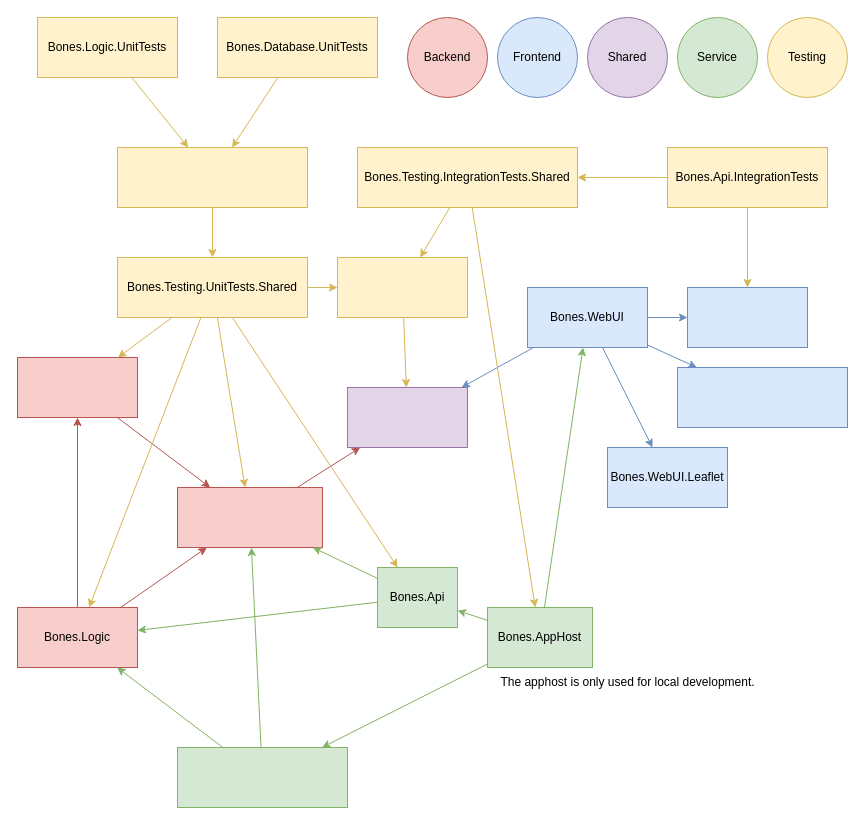
The diagram is 865 pixels wide and 825 high, and some of its shapes have lost their labels. The box of each missing label's shape, as (x1, y1, x2, y2) in pixels:
Bones.Api.Client: (686, 286, 808, 348)
Bones.BackgroundService: (176, 746, 348, 808)
Bones.Database: (16, 356, 138, 418)
Bones.Shared: (346, 386, 468, 448)
Bones.Shared.Backend: (176, 486, 322, 548)
Bones.Shared.Backend.UnitTests: (116, 146, 308, 208)
Bones.Testing.Shared: (336, 256, 468, 318)
Bones.WebUI.SubtleCrypto: (676, 366, 848, 428)
